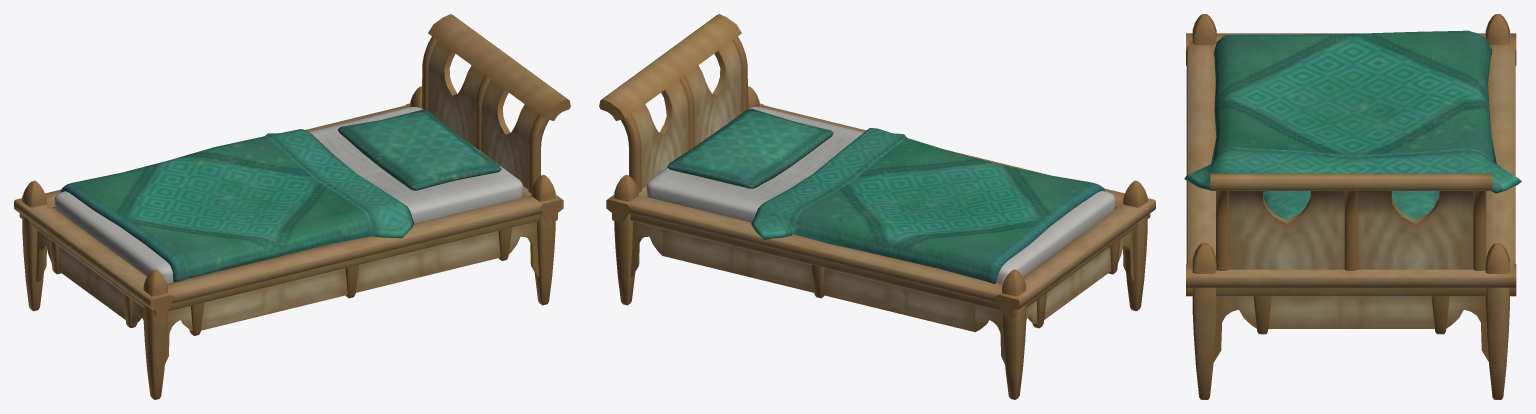
The model's file is comfort6_t4_bed.glb.
The picture shows the model from 3 angles, left to right: view 1: azimuth 30°, elevation 25°; view 2: azimuth 150°, elevation 25°; view 3: azimuth 270°, elevation 25°; orthographic projection. The views are drawn at different scales.
Parts seen in each view (by area): view 1: env_desert_props_bed_01; view 2: env_desert_props_bed_01; view 3: env_desert_props_bed_01.
Part boxes in pixels (x1,y1,x2,y2): env_desert_props_bed_01: (14,14,570,399); env_desert_props_bed_01: (599,14,1155,399); env_desert_props_bed_01: (1184,14,1521,399).
Bounding box in the file's own units: 3.11 × 1.35 × 1.75.
2 materials, 2 textured.
